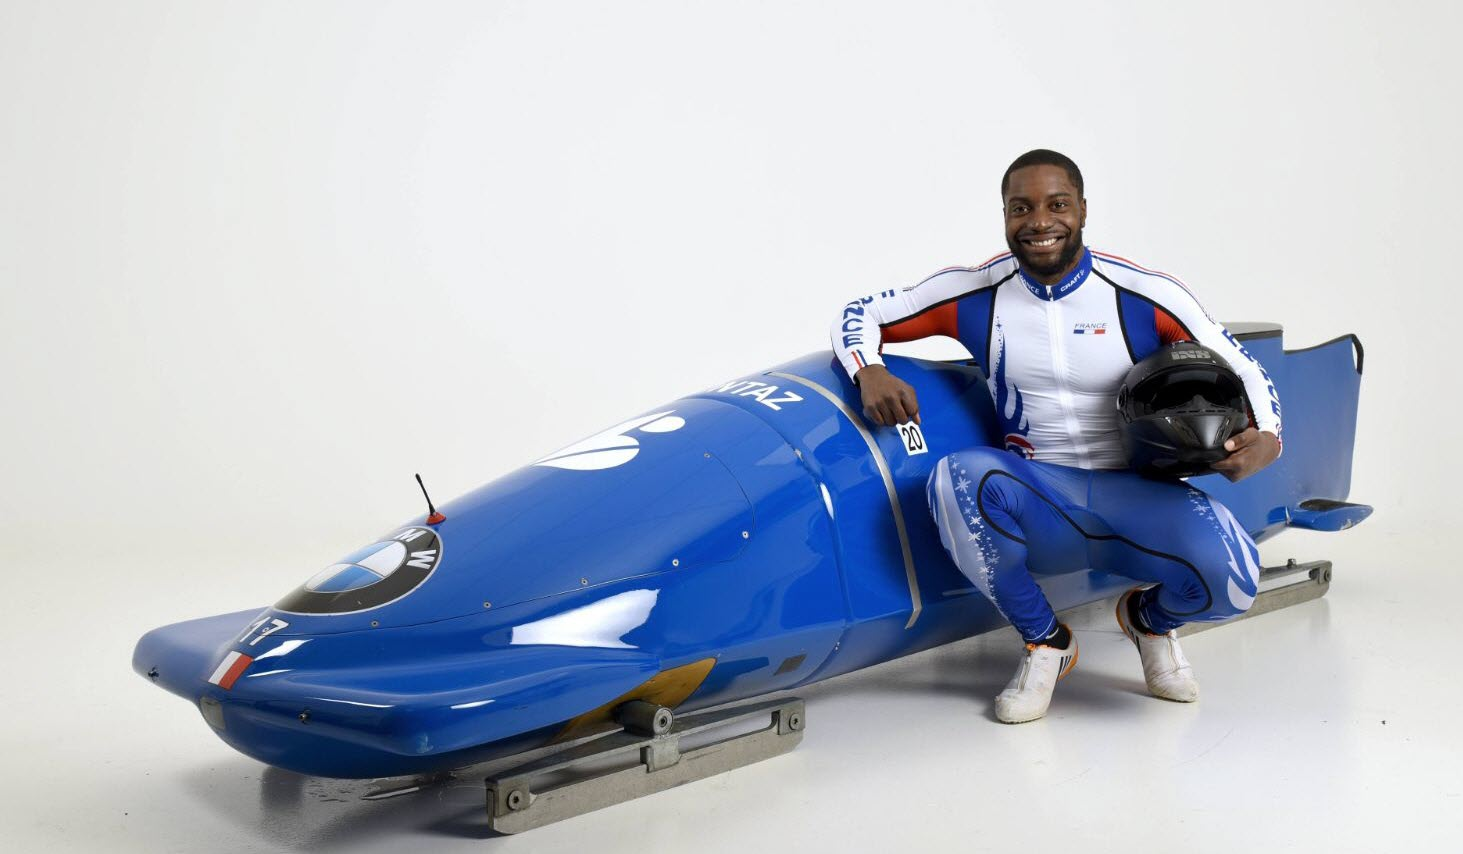Bobsleigh: (130, 325, 1360, 829)
